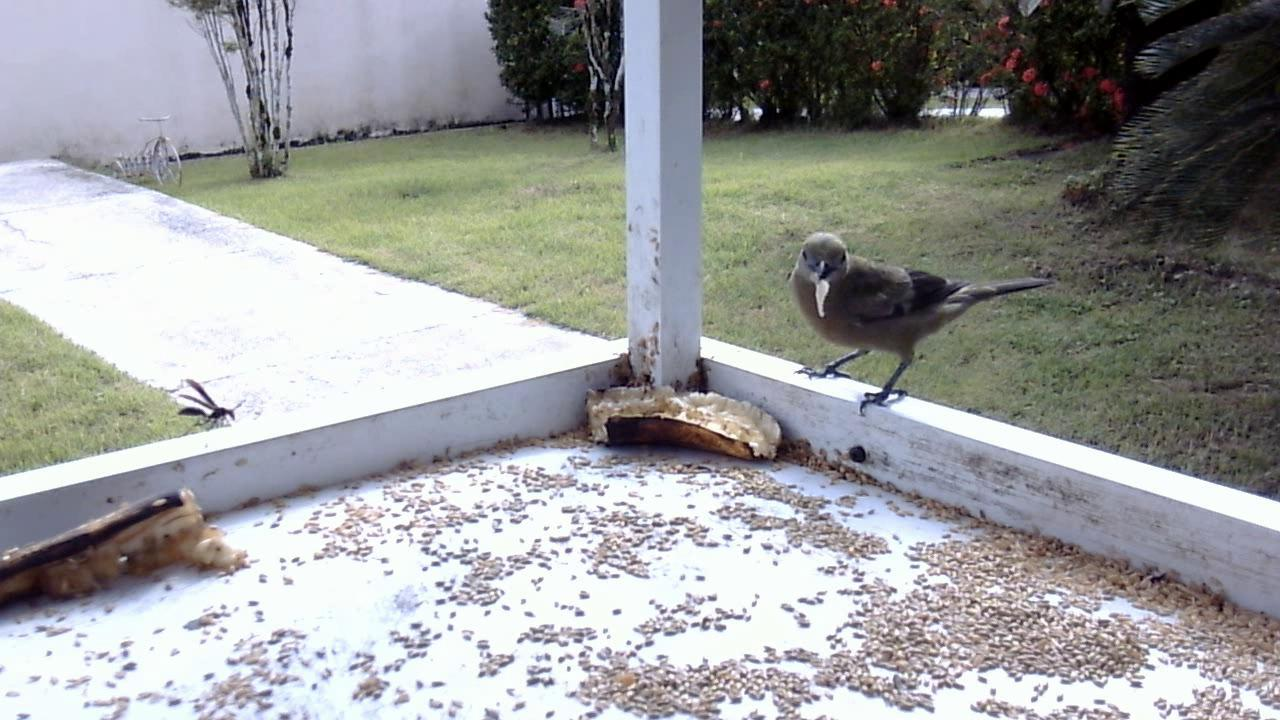sanhaco_do_coqueiro: (781, 223, 1057, 422)
